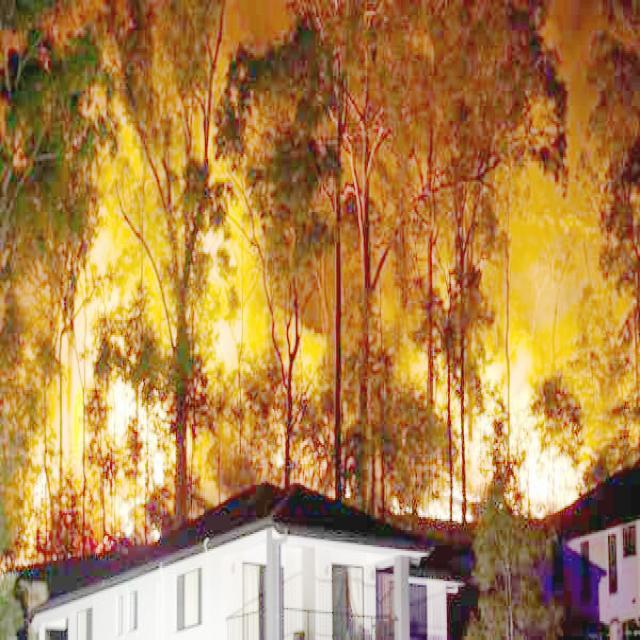api: (388, 343, 598, 530), (97, 356, 173, 551), (205, 191, 255, 368), (18, 445, 57, 576)
